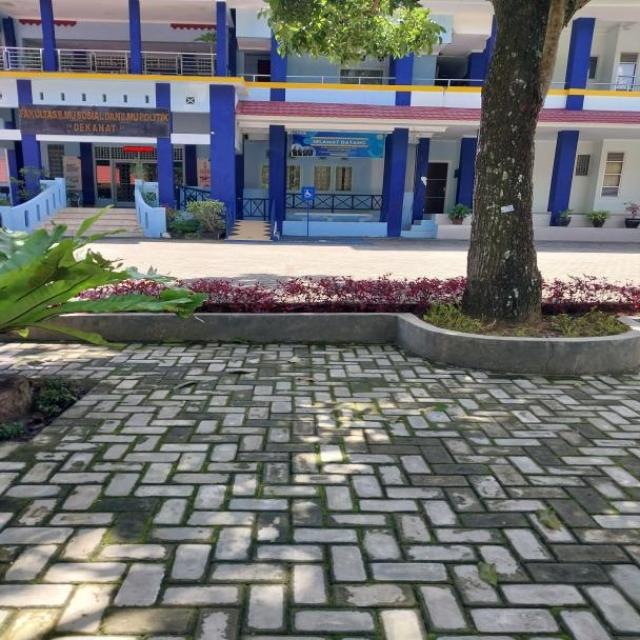tree ahead at: (462, 0, 561, 314)
